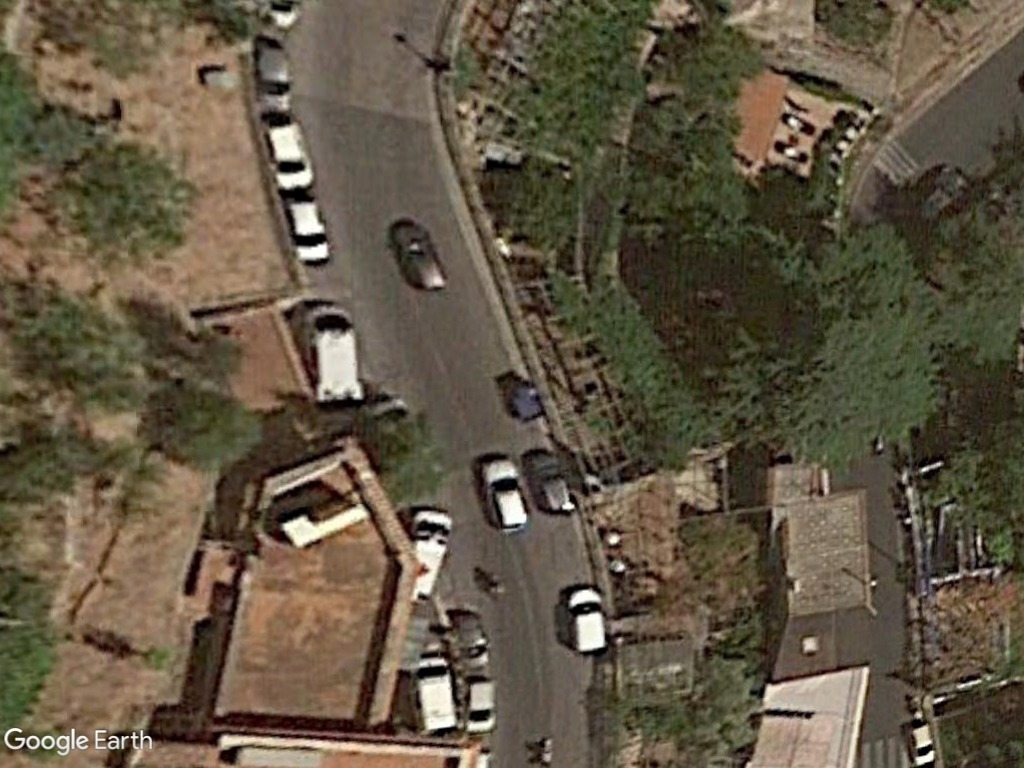car: (478, 455, 532, 536), (262, 116, 315, 194), (282, 200, 335, 268)
van: (561, 586, 610, 659)
